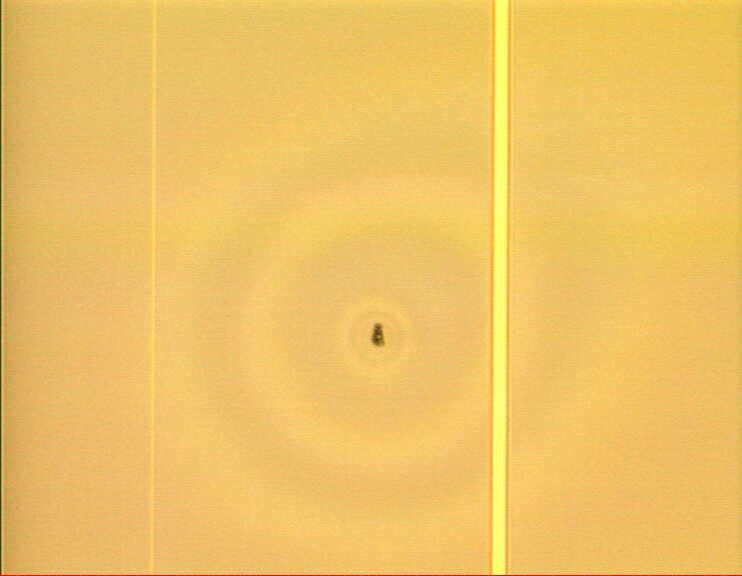PIQ PARTICLE: (361, 316, 397, 352)
